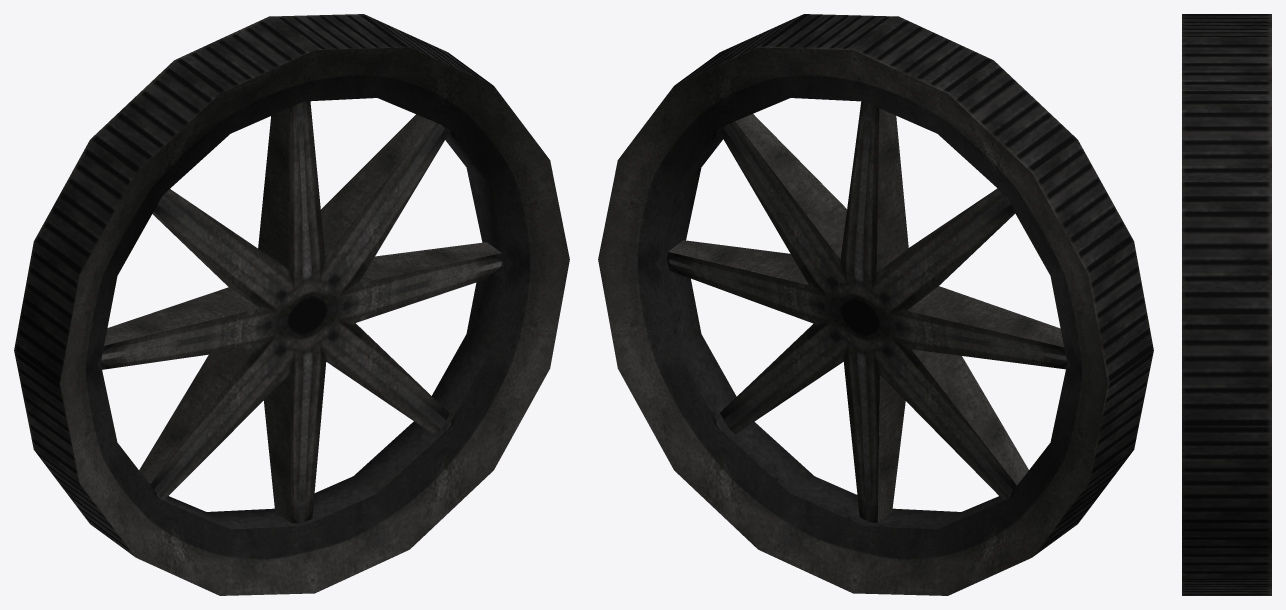
The model's file is cave_big_wheel.fbx.
3 views of the same model, side by side, from view 1: azimuth 30°, elevation 25°; view 2: azimuth 150°, elevation 25°; view 3: azimuth 270°, elevation 25° (orthographic). The views are drawn at different scales.
Visible parts, largest first — view 1: wheel_ring, wheel_spokes; view 2: wheel_ring, wheel_spokes; view 3: wheel_ring.
Part boxes in pixels (x1=…): wheel_ring: x1=14, y1=14, x2=569, y2=595; wheel_spokes: x1=100, y1=101, x2=504, y2=523; wheel_ring: x1=598, y1=14, x2=1153, y2=595; wheel_spokes: x1=666, y1=101, x2=1067, y2=522; wheel_ring: x1=1182, y1=14, x2=1271, y2=595.
Bounding box in the file's own units: 723 × 736 × 113.
Materials: 1 (1 with a texture image).
